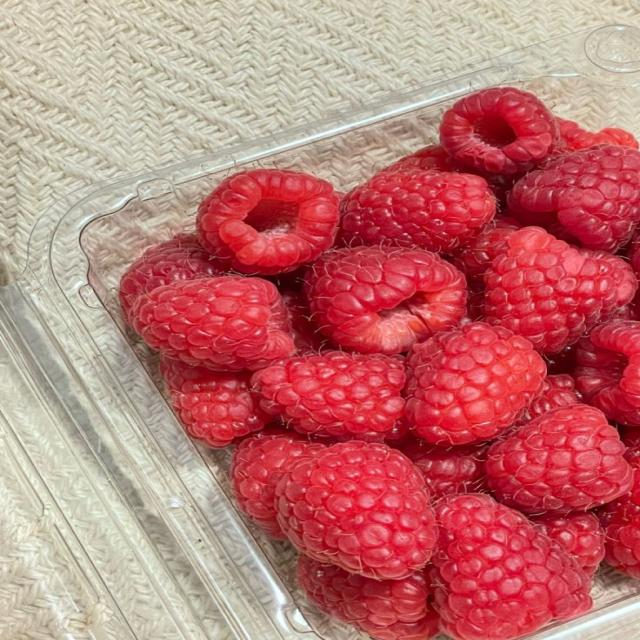raspberry: (433, 494, 591, 639), (276, 441, 437, 579), (307, 247, 466, 354), (406, 323, 546, 444), (484, 228, 618, 354), (486, 404, 632, 513), (132, 276, 293, 369), (197, 169, 338, 274), (508, 145, 639, 251), (253, 351, 405, 439), (340, 169, 495, 251), (297, 556, 438, 639), (440, 87, 559, 174), (230, 429, 323, 539), (160, 357, 271, 448), (119, 234, 220, 324), (380, 145, 522, 203), (575, 321, 639, 426), (399, 439, 487, 498), (532, 513, 605, 576), (453, 216, 521, 281), (600, 468, 639, 578), (580, 249, 638, 319), (280, 290, 330, 354), (518, 374, 581, 424), (557, 117, 638, 151), (380, 145, 469, 172), (546, 344, 576, 376), (621, 428, 639, 468), (627, 232, 639, 274)
